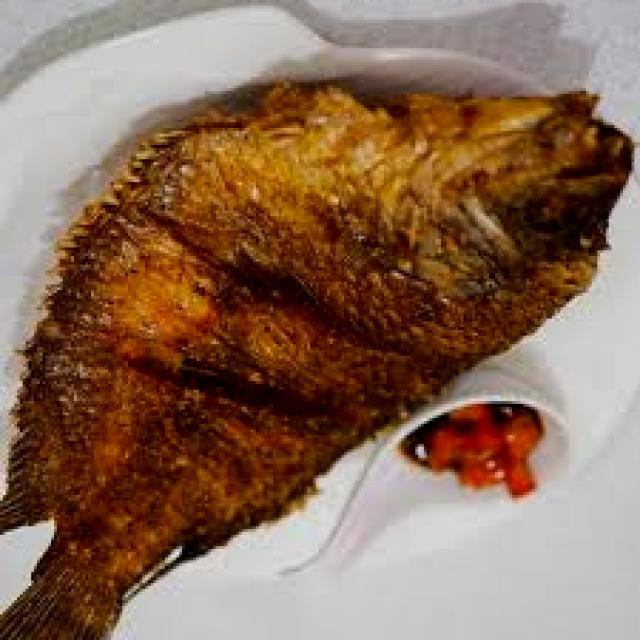ikan goreng: (0, 80, 637, 640)
